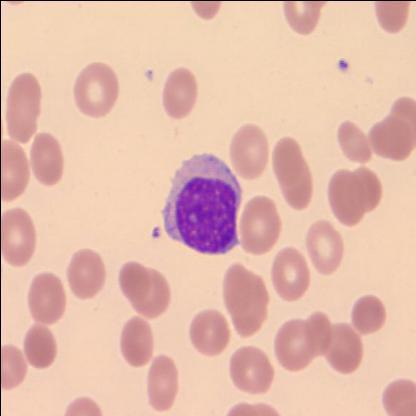Promyelocyte: (161, 147, 241, 253)
